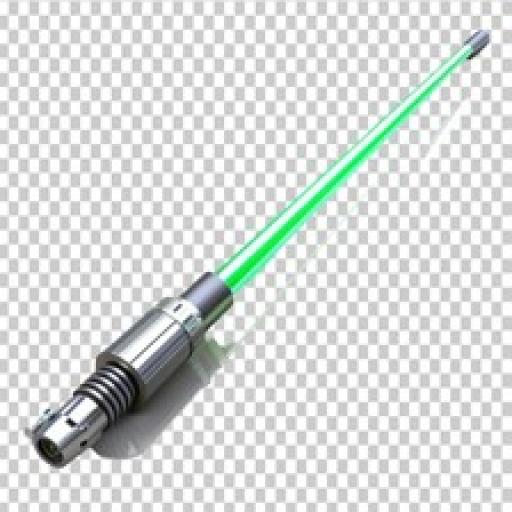lightsaber: (34, 31, 490, 467)
